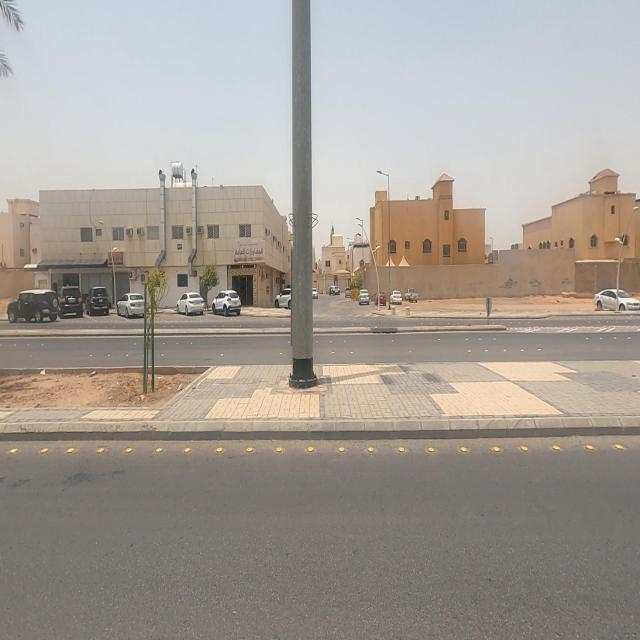Graffiti: (501, 280, 518, 292), (531, 280, 543, 291), (563, 276, 573, 289)
